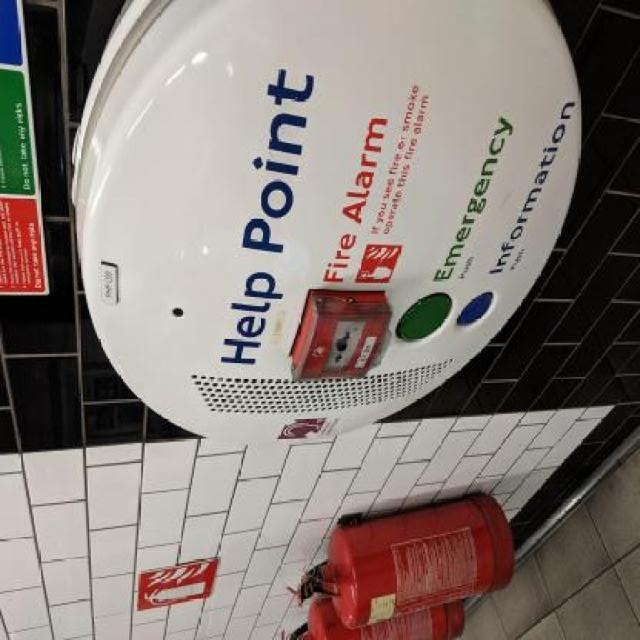fire extinguisher: (297, 493, 514, 630), (279, 595, 464, 640)
